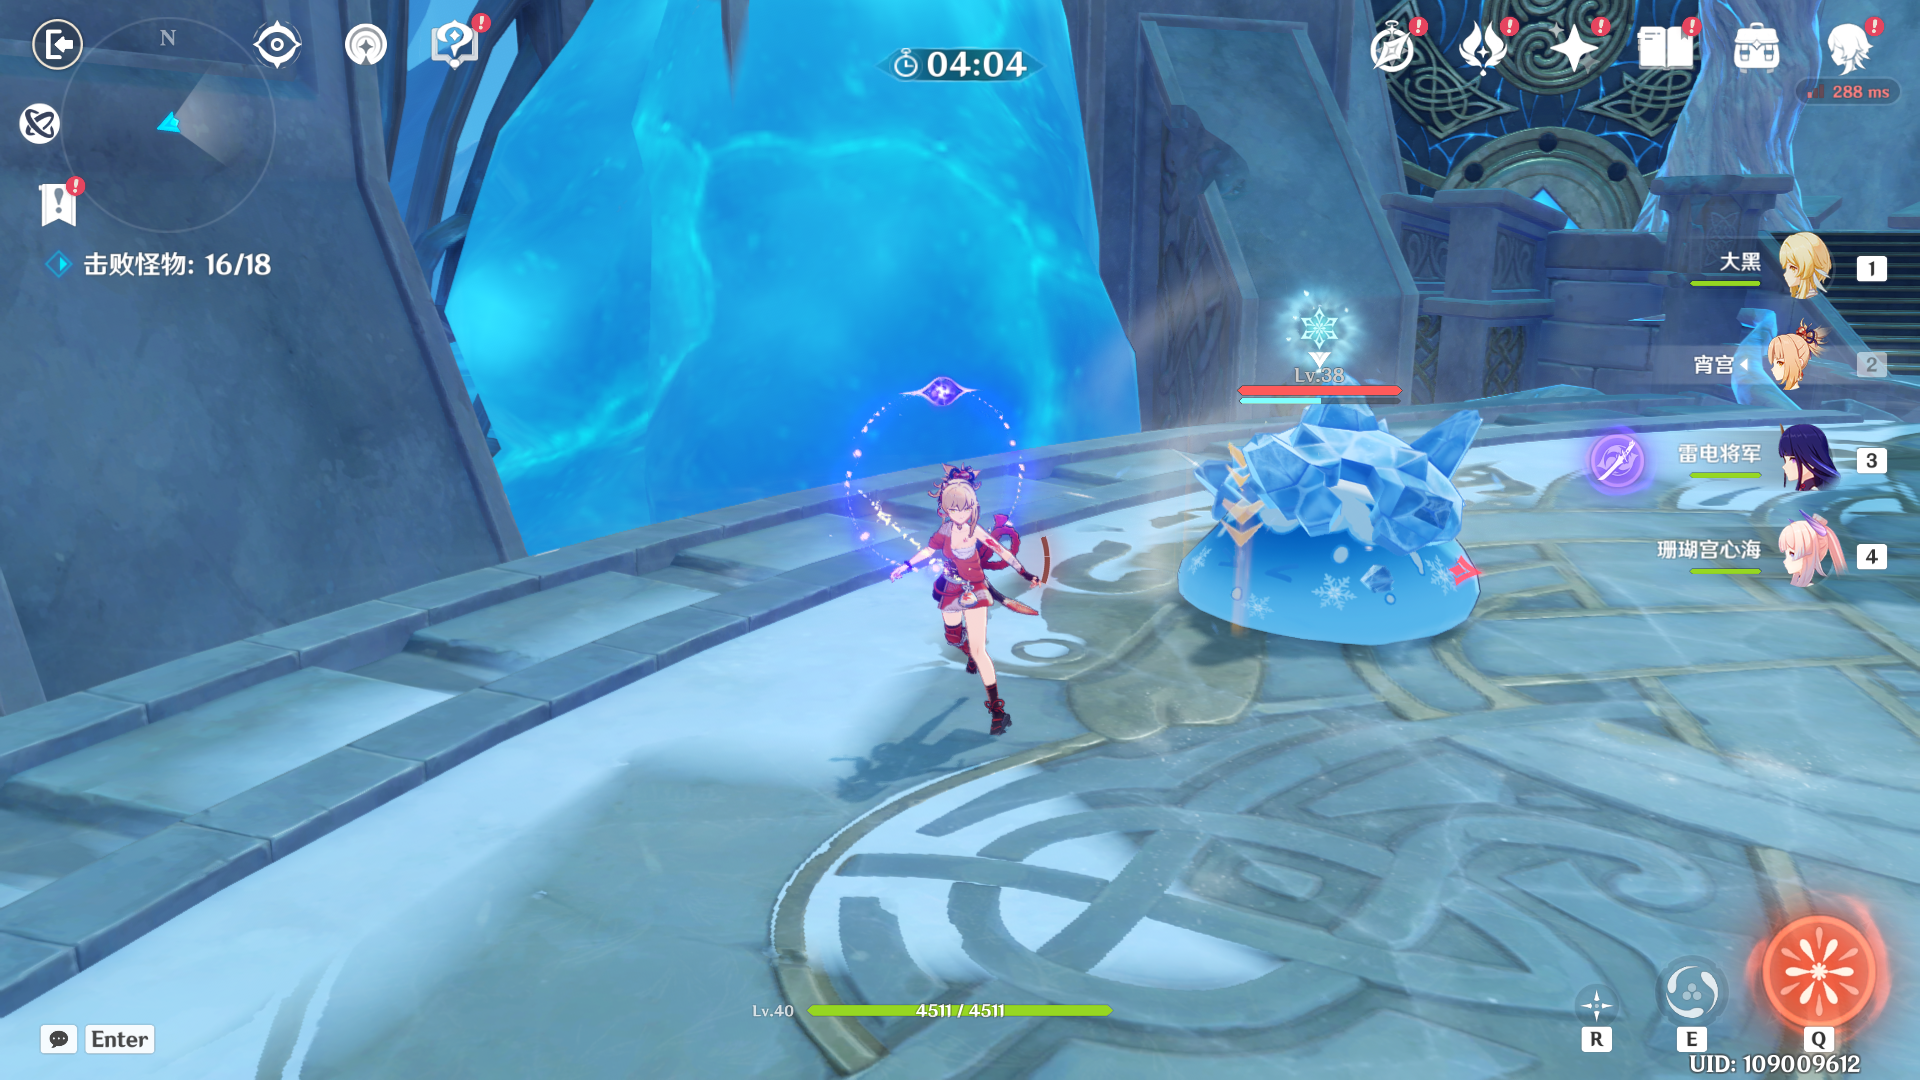character: (855, 439, 1091, 760)
slime: (1147, 386, 1505, 684)
